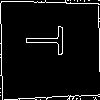T: (25, 24, 74, 56)
